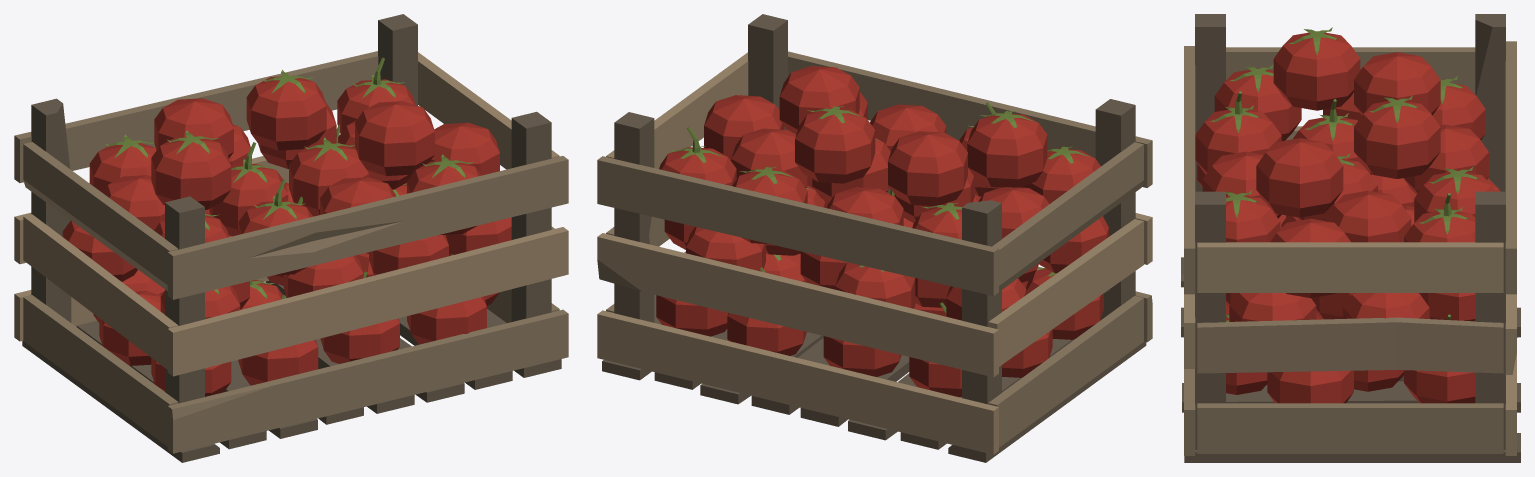
File: SM_Props_Farm_Crate_Filled_Tomato.fbx
3 renders of one model, left to right at view 1: azimuth 30°, elevation 25°; view 2: azimuth 150°, elevation 25°; view 3: azimuth 270°, elevation 25°, orthographic. The views are drawn at different scales.
Visible parts, largest first — view 1: SM_Props_Farm_Crate_Filled_Tomato; view 2: SM_Props_Farm_Crate_Filled_Tomato; view 3: SM_Props_Farm_Crate_Filled_Tomato.
Part boxes in pixels (x1=…): SM_Props_Farm_Crate_Filled_Tomato: x1=14, y1=14, x2=568, y2=462; SM_Props_Farm_Crate_Filled_Tomato: x1=597, y1=14, x2=1152, y2=462; SM_Props_Farm_Crate_Filled_Tomato: x1=1181, y1=14, x2=1520, y2=462.
Bounding box in the file's own units: 103 × 64.05 × 72.8.
